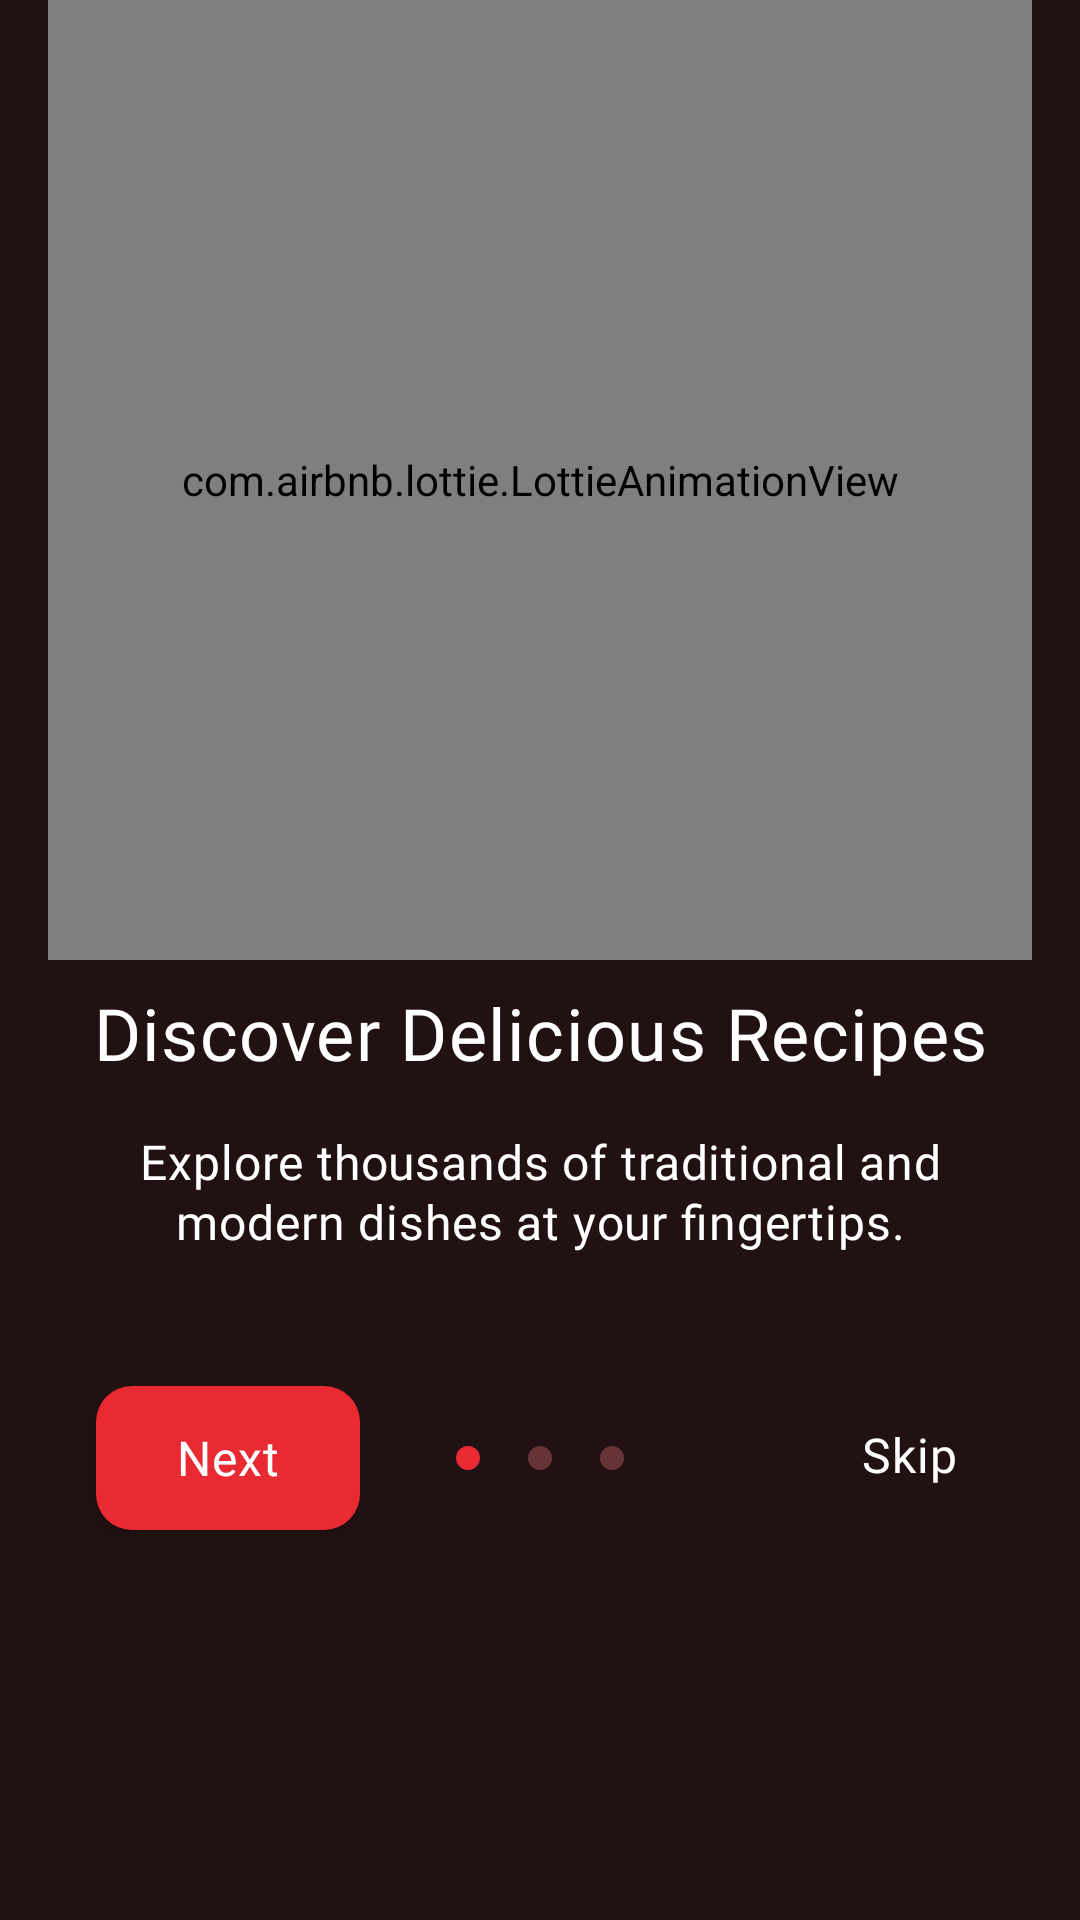

Icon click points for this 1080w x 1920h phone screenshot, format [x,y]:
dot: [468,1458]
empty dots: [540,1458], [612,1458]
